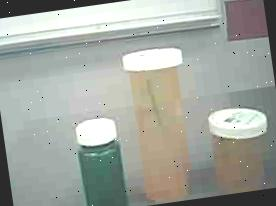Bottle A: (120, 38, 205, 206)
Bottle B: (202, 100, 276, 196)
Bottle C: (68, 113, 135, 206)
